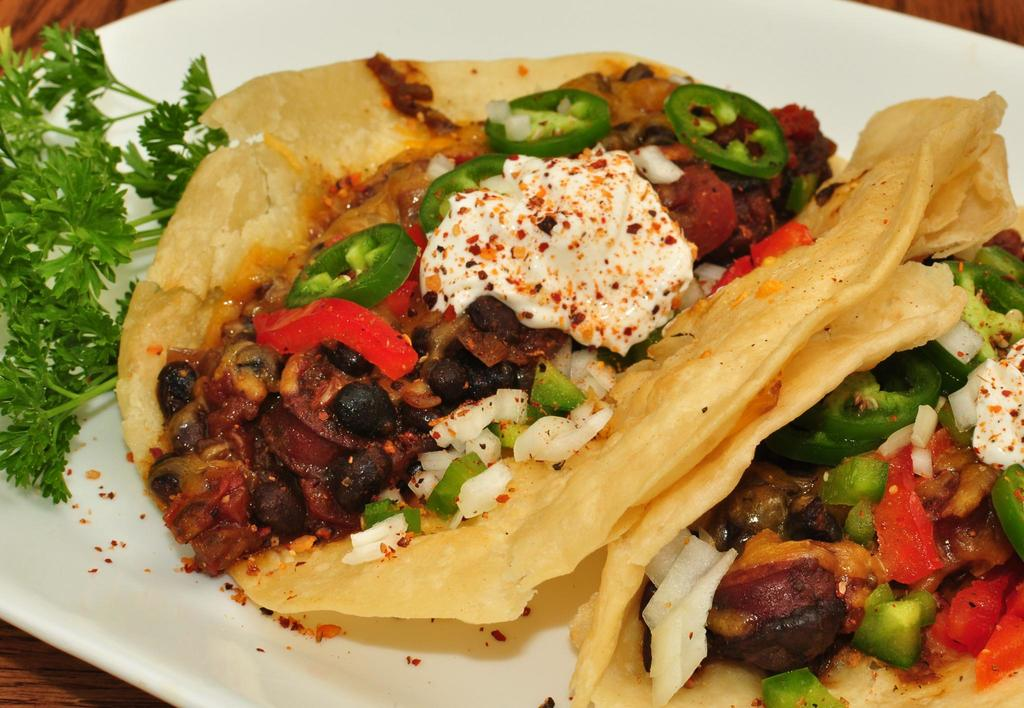taco: (116, 46, 1008, 624), (559, 164, 1019, 705)
